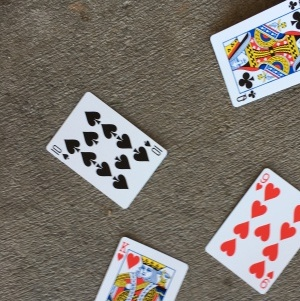card: (45, 91, 169, 210)
